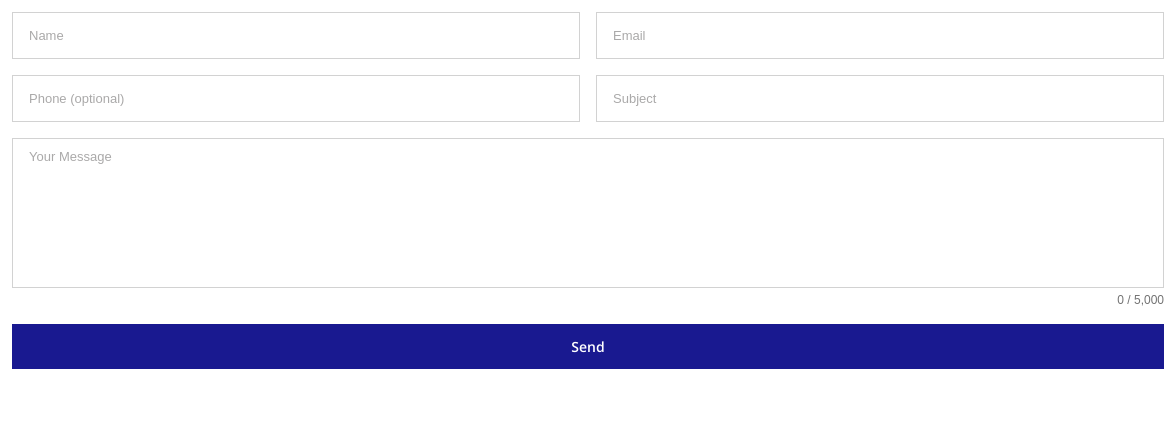
ContactForm › shows the unavailable banner on 503 and on a rejected fetch, keeping the values
This screenshot has width=1176, height=438.
Type "Ali Khan" into the field labelled "Name".
click(296, 36); type("Ali Khan")  # box [12,12,580,59]
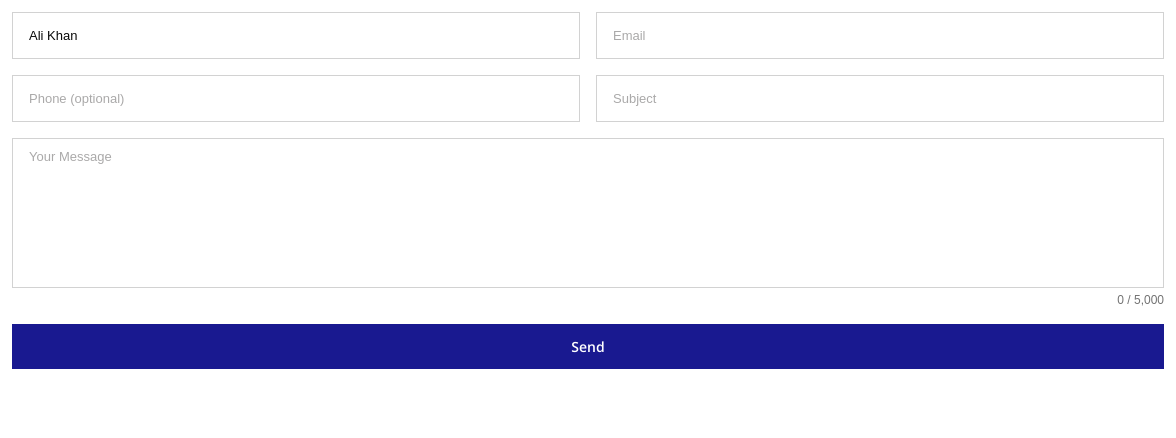
Type "ali@example.com" into the field labelled "Email".
click(880, 36); type("ali@example.com")  # box [596,12,1164,59]
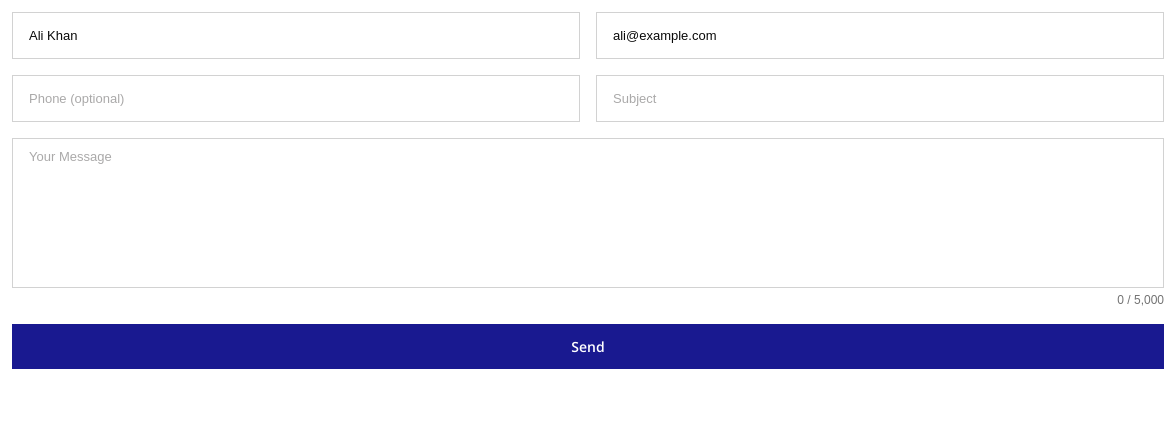
Type "Admission" into the field labelled "Subject".
click(880, 98); type("Admission")  # box [596,75,1164,122]
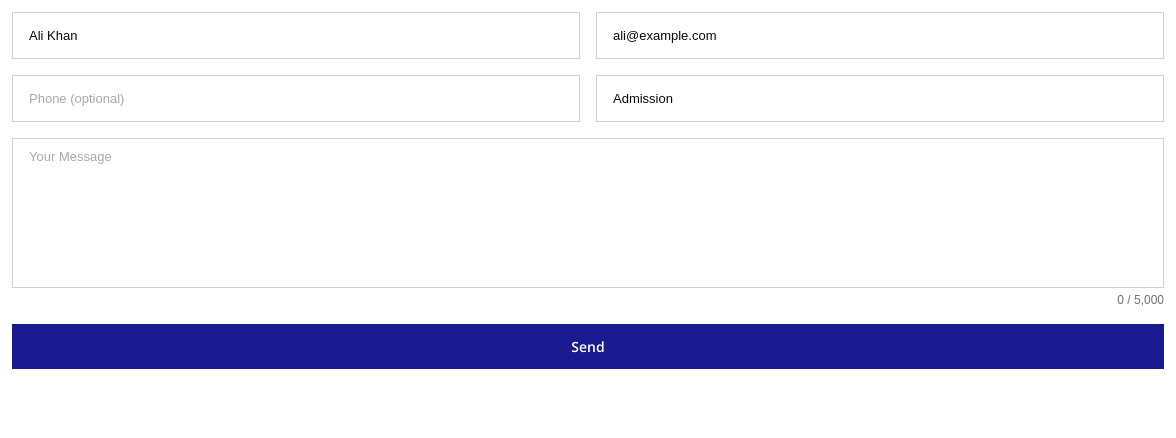
Type "Hello there." into the text box labelled "Your Message".
click(588, 213); type("Hello there.")  # box [12,138,1164,288]
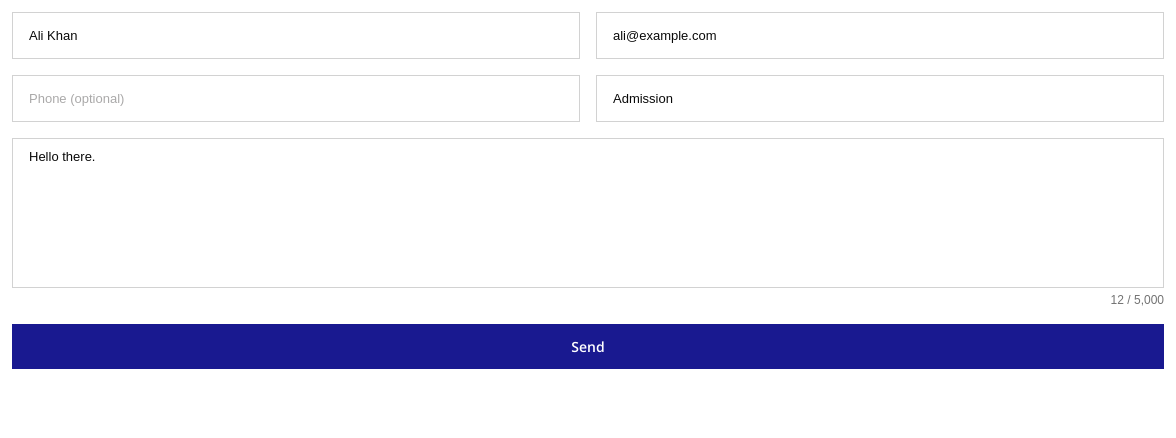
Click the button "Send".
click(588, 346)  # box [12,324,1164,369]
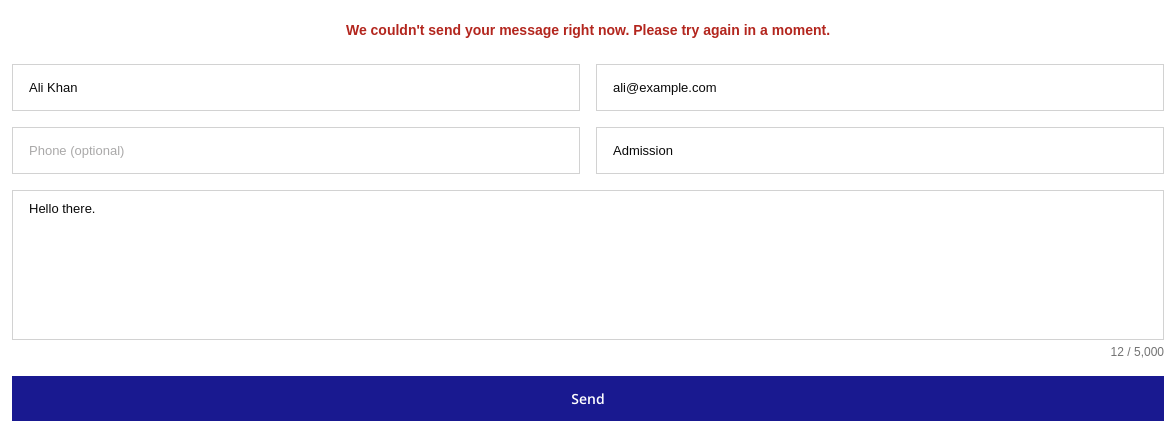
Expected: the message shows "couldn't send", [346,22,830,38]
